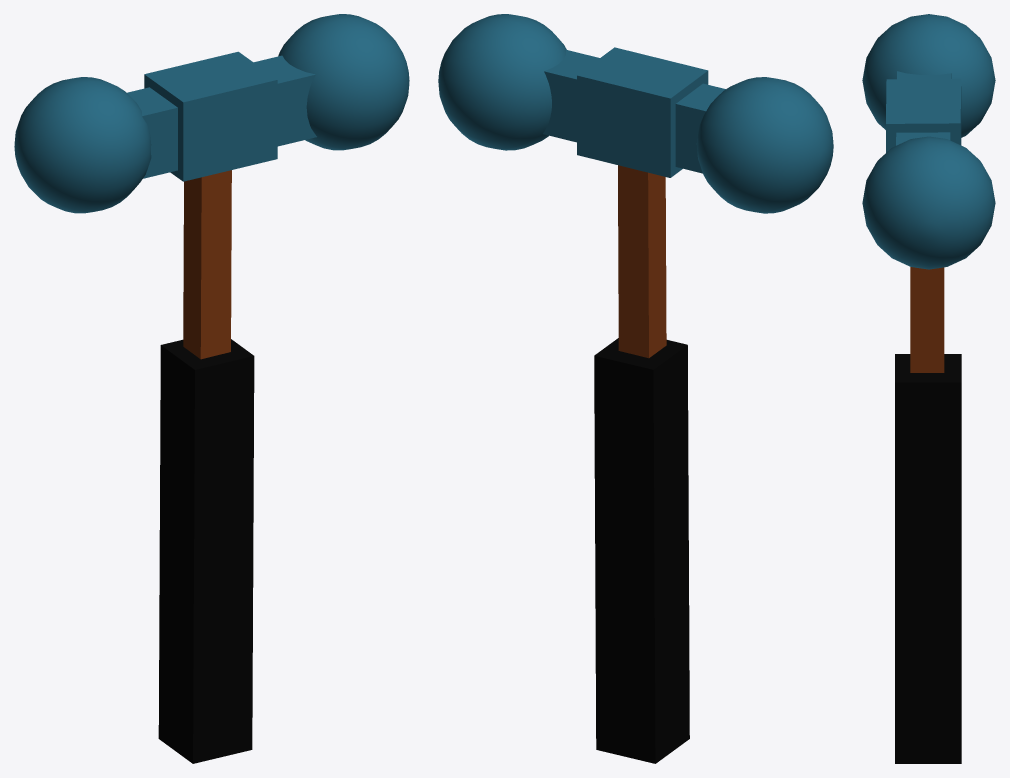
Rendered from HAMMMER_TEXTURE.obj.
3 renders of one model, left to right at view 1: azimuth 30°, elevation 25°; view 2: azimuth 150°, elevation 25°; view 3: azimuth 270°, elevation 25°, orthographic. The views are drawn at different scales.
Visible parts, largest first — view 1: HammerUV, HammerUV pCube8 pCube5 pSphere1, HammerUV pCube8 pCube5 pSphere2, HammerUV pCube8, HammerUV pCube4, HammerUV pCube8 pCube5; view 2: HammerUV, HammerUV pCube8 pCube5 pSphere1, HammerUV pCube8 pCube5 pSphere2, HammerUV pCube8, HammerUV pCube4, HammerUV pCube8 pCube5; view 3: HammerUV, HammerUV pCube8 pCube5 pSphere2, HammerUV pCube8 pCube5 pSphere1, HammerUV pCube8, HammerUV pCube4, HammerUV pCube8 pCube5.
Boxes of the visible parts, x1,y1,x2,y2 form: HammerUV: (158,339,254,763); HammerUV pCube8 pCube5 pSphere1: (14,77,151,213); HammerUV pCube8 pCube5 pSphere2: (278,14,409,150); HammerUV pCube8: (144,51,277,181); HammerUV pCube4: (183,170,231,359); HammerUV pCube8 pCube5: (127,55,316,178); HammerUV: (594,338,689,763); HammerUV pCube8 pCube5 pSphere1: (696,77,833,213); HammerUV pCube8 pCube5 pSphere2: (438,14,566,150); HammerUV pCube8: (577,47,708,177); HammerUV pCube4: (618,165,666,358); HammerUV pCube8 pCube5: (543,49,725,173); HammerUV: (895,354,961,763); HammerUV pCube8 pCube5 pSphere2: (862,136,995,269); HammerUV pCube8 pCube5 pSphere1: (862,14,995,137); HammerUV pCube8: (886,78,961,152); HammerUV pCube4: (910,267,944,372); HammerUV pCube8 pCube5: (896,71,951,145).
Size of the model in its own units: 6.35 by 11.13 by 2.
